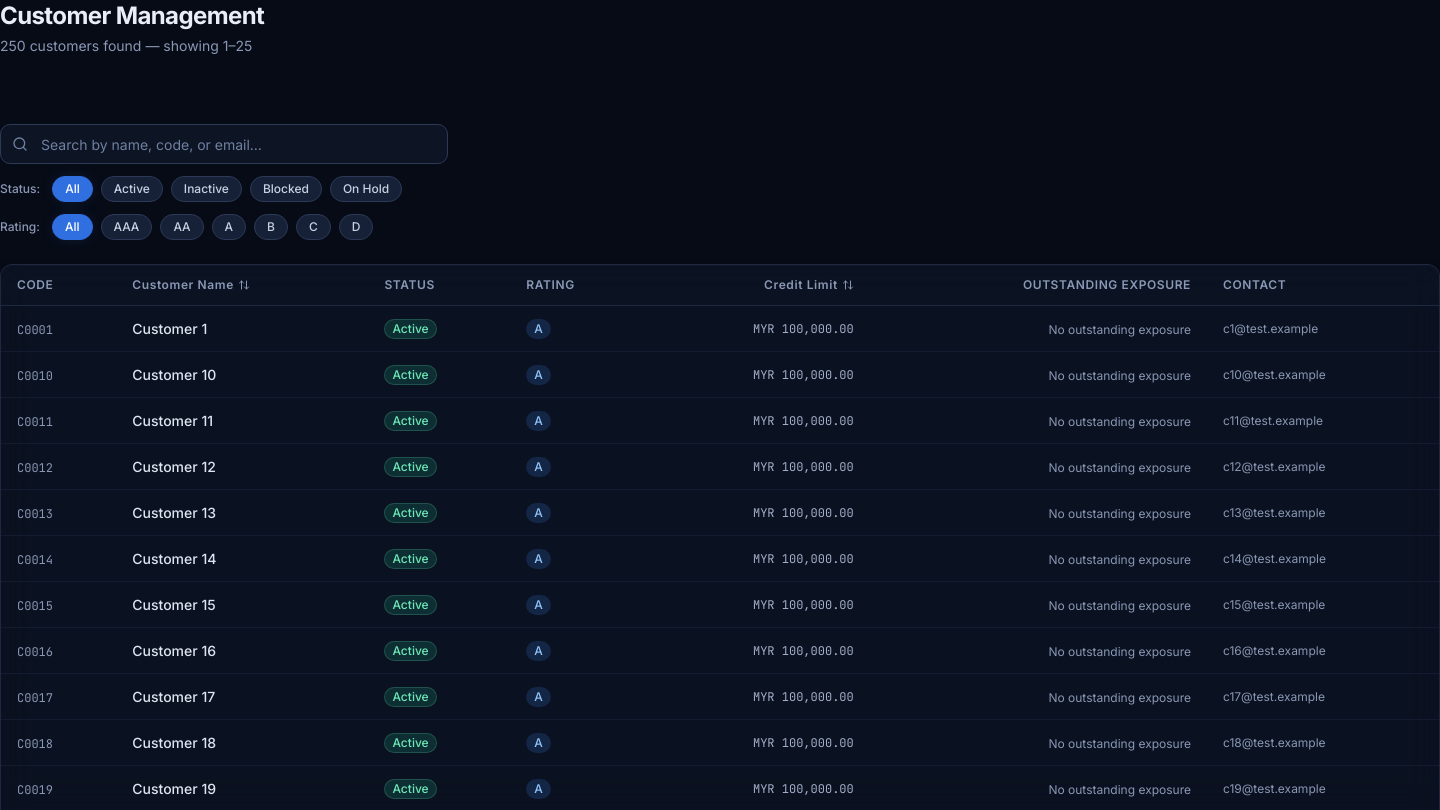
Test: Customer list — server pagination (B9DD-RR-002) › pushes search to the server instead of filtering a capped page
The width and height of the screenshot is (1440, 810).
Expected: the link "Customer 1" is shown, x1=132 y1=320 x2=207 y2=336
In the field with placeholder "Search by name, code, or email…": [224, 144] box x1=0 y1=124 x2=448 y2=164, type "Customer 150"
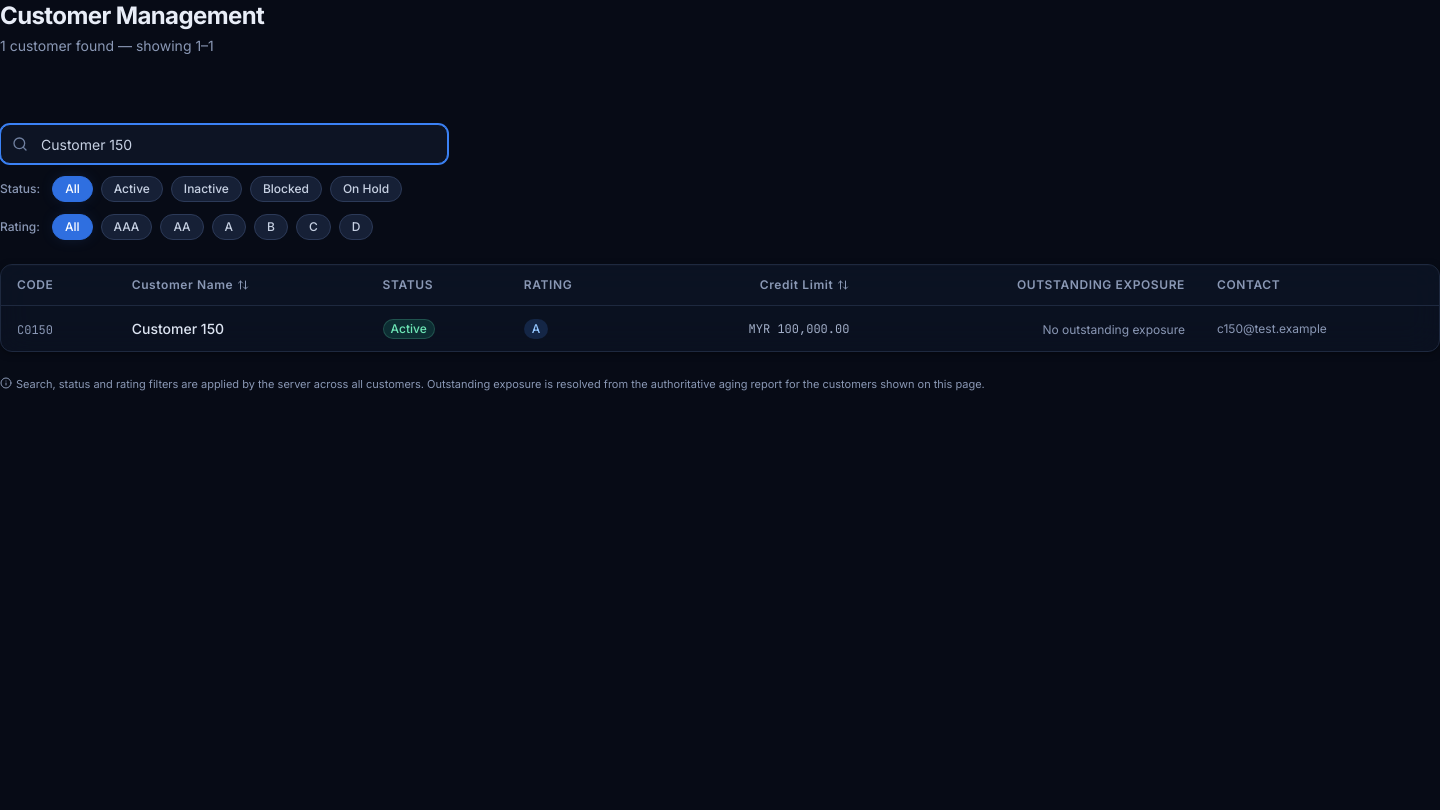
Result: the link "Customer 150" is shown at x1=132 y1=320 x2=224 y2=336
